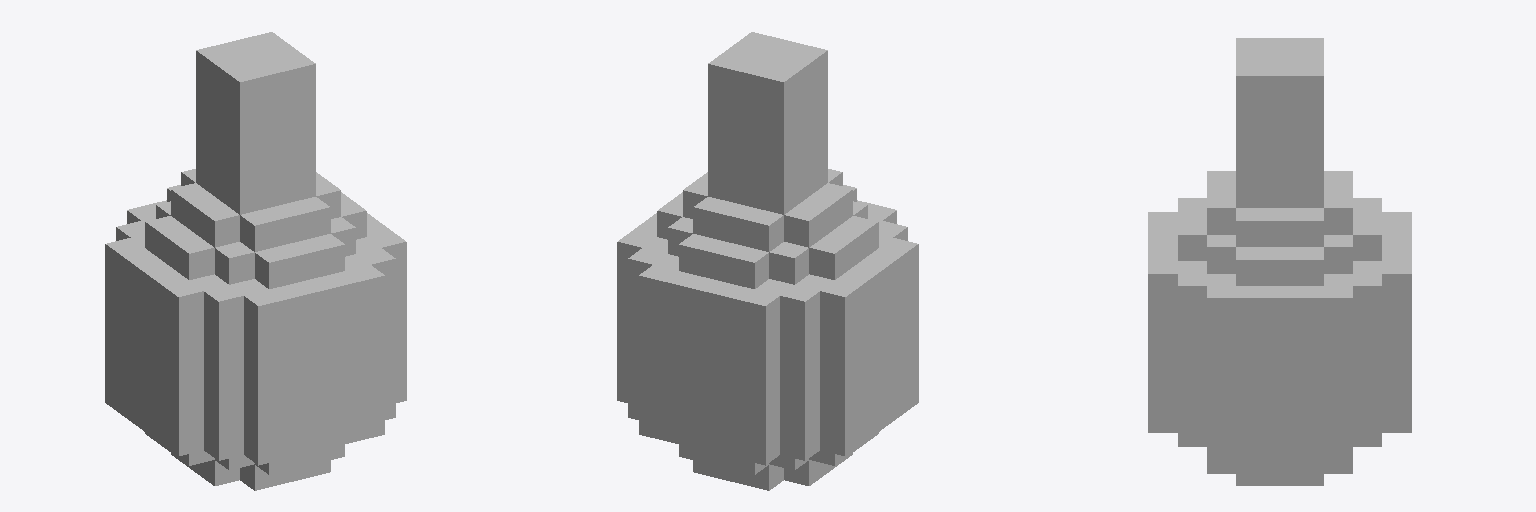
File: Potion.obj
3 views of the same model, side by side, from view 1: azimuth 30°, elevation 25°; view 2: azimuth 150°, elevation 25°; view 3: azimuth 270°, elevation 25° (orthographic).
Visible parts, largest first — view 1: object 1; view 2: object 1; view 3: object 1.
Part boxes in pixels (bbox=[...]): object 1: bbox=[105, 32, 406, 490]; object 1: bbox=[617, 32, 918, 490]; object 1: bbox=[1148, 38, 1411, 485].
Size of the model in its own units: 0.9 by 1.5 by 0.9.